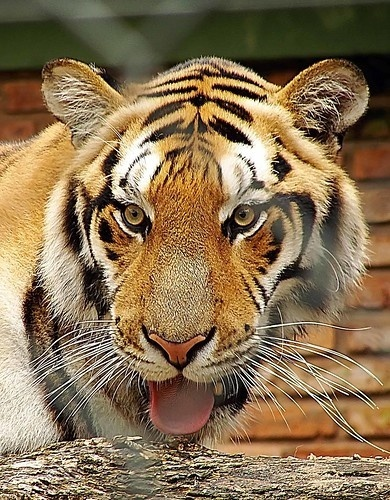tigre: (4, 52, 382, 455)
